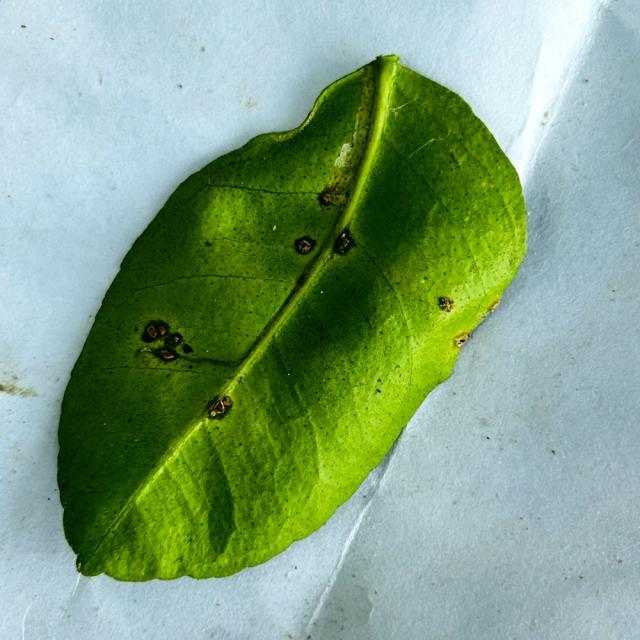Anthracnose: (452, 298, 504, 352), (200, 392, 235, 429), (142, 320, 169, 343), (333, 231, 356, 256), (293, 235, 317, 255), (153, 347, 178, 362), (454, 332, 471, 348), (437, 296, 454, 312), (318, 191, 334, 206), (166, 335, 181, 348), (487, 300, 499, 312), (76, 563, 83, 574)
Lemon: (54, 55, 528, 586)
